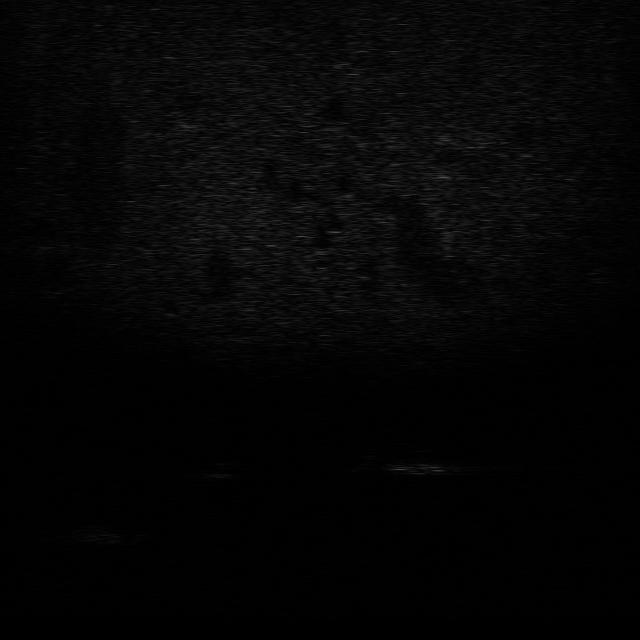ball: (199, 458, 240, 482)
circle cage: (38, 520, 122, 548)
human body: (355, 449, 480, 478)
